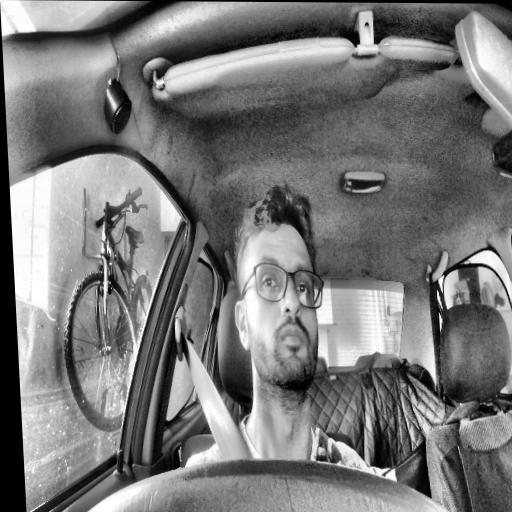awake: (226, 181, 330, 403)
